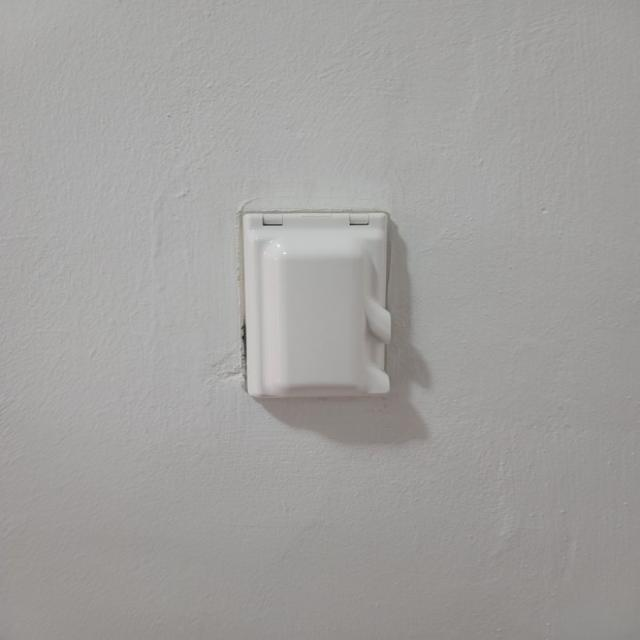typeb: (217, 198, 413, 432)
